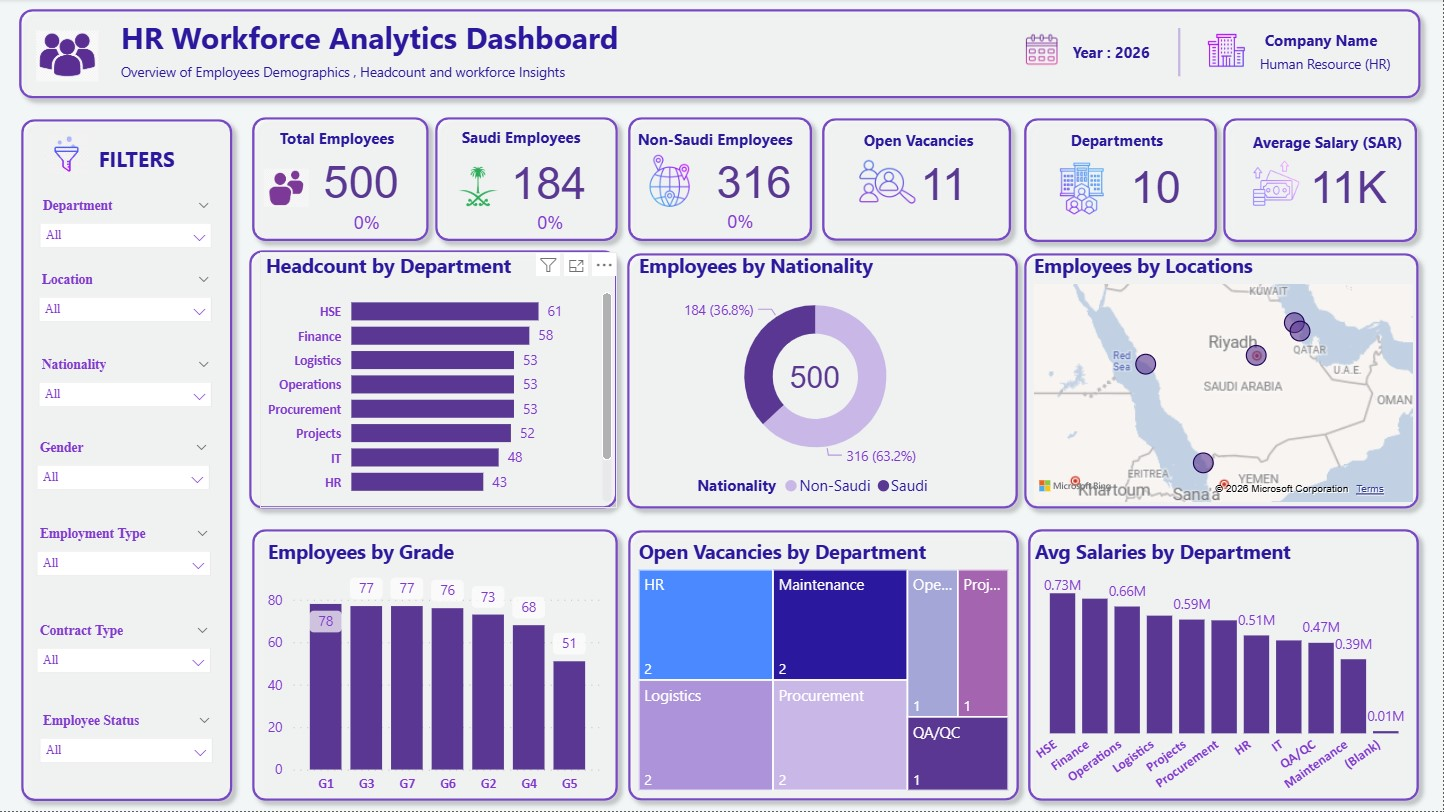

Layout of this report page (visuals, bound fields, positions):
{"tool":"powerbi","page":{"name":"Page 1","canvas":[1280,720],"ordinal":0},"visuals":[{"type":"shape","box":[8.5,0,1260.6,97.1],"z":0},{"type":"textbox","box":[103.1,10.7,645.8,46.7],"z":1000},{"type":"textbox","box":[103.1,51,458.6,34],"z":2000},{"type":"image","box":[0,22.7,120.9,55.5],"z":3000},{"type":"shape","box":[10.7,97.3,205.2,622.5],"z":4000},{"type":"image","box":[24.8,113.8,70.6,47.7],"z":5000},{"type":"textbox","box":[83.5,123.9,93.6,47.7],"z":6000},{"type":"slicer","fields":{"Values":["Employees.Department"]},"box":[25.7,171.6,173.4,65.1],"z":7000},{"type":"slicer","fields":{"Values":["Employees.Location"]},"box":[24.8,236.7,174.3,65.1],"z":8000},{"type":"slicer","fields":{"Values":["Employees.Nationality"]},"box":[24.8,311.9,174.3,65.1],"z":9000},{"type":"slicer","fields":{"Values":["Employees.Gender"]},"box":[23.3,386.1,174.1,65.2],"z":10000},{"type":"slicer","fields":{"Values":["Employees.Employment Type"]},"box":[23.3,462,175.1,65.2],"z":11000},{"type":"slicer","fields":{"Values":["Employees.Status"]},"box":[25.3,627.4,174.1,65.2],"z":12000},{"type":"slicer","fields":{"Values":["Employees.Contract Type"]},"box":[23.3,547.6,175.1,65.2],"z":13000},{"type":"shape","box":[215.6,95.6,174.4,127.8],"z":14000},{"type":"card","fields":{"Values":["CountNonNull(Employees.Emp ID)"]},"box":[258.3,137.9,126.2,46.6],"z":15000},{"type":"textbox","box":[243.8,110.3,120.2,33.9],"z":16000},{"type":"card","fields":{"Values":["Employees.Active Employee %"]},"box":[288.3,184.5,75.7,31.1],"z":17000},{"type":"image","box":[221.5,145.4,66.9,43.8],"z":18000},{"type":"shape","box":[377.8,95.6,180,127.8],"z":19000},{"type":"card","fields":{"Values":["CountNonNull(Employees.Nationality)"]},"box":[424.6,138.5,125.4,46.2],"z":20000},{"type":"textbox","box":[404.9,108.7,143.7,34],"z":21000},{"type":"card","fields":{"Values":["Employees.Saudi Employee %"]},"box":[450.5,184.5,76.7,31.1],"z":22000},{"type":"image","box":[384.5,141.7,80.6,47.6],"z":23000},{"type":"shape","box":[548.9,95.6,181.1,127.8],"z":24000},{"type":"card","fields":{"Values":["CountNonNull(Employees.Emp ID)"]},"box":[618.9,137.8,101.1,46.7],"z":25000},{"type":"textbox","box":[561.5,110.8,164.6,33.8],"z":26000},{"type":"card","fields":{"Values":["Employees.Non-Saudi Employee %"]},"box":[619.2,183.8,76.9,31.5],"z":27000},{"type":"image","box":[557.7,132.3,74.6,58.5],"z":28000},{"type":"shape","box":[721.1,96.7,185.6,126.7],"z":29000},{"type":"card","fields":{"Values":["Sum(Dashboard_Data.Open Vacancies)"]},"box":[774.6,139.2,125.4,46.2],"z":30000},{"type":"textbox","box":[761.5,111.5,151.5,33.8],"z":31000},{"type":"image","box":[753.8,132.3,68.5,60],"z":32000},{"type":"shape","box":[900,96.7,188.9,127.8],"z":33000},{"type":"shape","box":[1076.7,96.7,190,127.8],"z":34000},{"type":"textbox","box":[945.4,111.5,103.8,33.8],"z":35000},{"type":"card","fields":{"Values":["Count(Employees.Department)"]},"box":[963.1,141.5,125.4,46.2],"z":36000},{"type":"image","box":[923.1,140,74.6,56.2],"z":37000},{"type":"textbox","box":[1106.9,95.4,160,56.2],"z":38000},{"type":"image","box":[1106.9,131.5,52.3,64.6],"z":39000},{"type":"card","fields":{"Values":["Avg(Employees.Salary)"]},"box":[1150,142.3,93.1,46.2],"z":40000},{"type":"shape","box":[213,214,344.3,247.1],"z":41000},{"type":"barChart","title":"Headcount by Department","fields":{"Category":["Employees.Department"],"Y":["CountNonNull(Employees.Emp ID)"]},"box":[231.1,224.4,316.7,226.7],"z":42000},{"type":"shape","box":[547.8,216.7,364.4,244.4],"z":43000},{"type":"shape","box":[900,216.7,367.8,244.4],"z":44000},{"type":"donutChart","title":"Employees by Nationality","fields":{"Category":["Employees.Nationality"],"Y":["CountNonNull(Employees.Emp ID)"]},"box":[562.2,224.4,323.3,226.7],"z":45000},{"type":"card","fields":{"Values":["CountNonNull(Employees.Emp ID)"]},"box":[675,312.2,97.3,46.7],"z":46000},{"type":"map","title":"Employees by Locations","fields":{"X":["Employees.Longitude"],"Y":["Employees.Latitude"]},"box":[912.2,224.4,345.6,226.7],"z":47000},{"type":"shape","box":[215.6,461.1,342.2,258.9],"z":48000},{"type":"lineClusteredColumnComboChart","title":"Employees by Grade","fields":{"Category":["Employees.Grade"],"Y":["CountNonNull(Employees.Emp ID)"]},"box":[233.3,477.8,306.7,233.3],"z":49000},{"type":"shape","box":[548.9,462.2,364.4,257.8],"z":50000},{"type":"shape","box":[903.3,461.1,364.4,258.9],"z":51000},{"type":"treemap","title":"Open Vacancies by Department","fields":{"Group":["Dashboard_Data.Department"],"Values":["Sum(Dashboard_Data.Open Vacancies)"]},"box":[562.2,477.8,337.8,228.9],"z":52000},{"type":"columnChart","title":"Avg Salaries by Department","fields":{"Y":["Sum(Employees.Salary)"],"Category":["Employees.Department"]},"box":[913.3,477.8,344.4,242.2],"z":53000},{"type":"image","box":[1066,23.3,44.7,44.7],"z":54000},{"type":"textbox","box":[1117.6,23.3,125.5,34],"z":55000},{"type":"textbox","box":[1112.7,43.8,144.9,34],"z":56000},{"type":"shape","box":[1008.6,25.3,74.9,42.8],"z":57000},{"type":"image","box":[903.6,25.3,41.8,37.9],"z":58000},{"type":"textbox","box":[945.4,34,84.6,34],"z":58001}]}

Visuals, with their boxes in screenshot pixels (x1, y1, x2, y2), scaled from the page's 1280x720 canvas onto the 1444x812 screenshot:
shape: 10 0 1432 110
textbox: 116 12 845 65
textbox: 116 58 634 96
image: 0 26 136 88
shape: 12 110 244 811
image: 28 128 108 182
textbox: 94 140 200 194
slicer - Employees.Department: 29 194 225 267
slicer - Employees.Location: 28 267 225 340
slicer - Employees.Nationality: 28 352 225 425
slicer - Employees.Gender: 26 435 223 509
slicer - Employees.Employment Type: 26 521 224 595
slicer - Employees.Status: 29 708 225 781
slicer - Employees.Contract Type: 26 618 224 691
shape: 243 108 440 252
card - CountNonNull(Employees.Emp ID): 291 156 434 208
textbox: 275 124 411 163
card - Employees.Active Employee %: 325 208 411 243
image: 250 164 325 213
shape: 426 108 629 252
card - CountNonNull(Employees.Nationality): 479 156 620 208
textbox: 457 123 619 161
card - Employees.Saudi Employee %: 508 208 595 243
image: 434 160 525 213
shape: 619 108 824 252
card - CountNonNull(Employees.Emp ID): 698 155 812 208
textbox: 633 125 819 163
card - Employees.Non-Saudi Employee %: 699 207 785 243
image: 629 149 713 215
shape: 813 109 1023 252
card - Sum(Dashboard_Data.Open Vacancies): 874 157 1015 209
textbox: 859 126 1030 164
image: 850 149 928 217
shape: 1015 109 1228 253
shape: 1215 109 1429 253
textbox: 1067 126 1184 164
card - Count(Employees.Department): 1086 160 1228 212
image: 1041 158 1126 221
textbox: 1249 108 1429 171
image: 1249 148 1308 221
card - Avg(Employees.Salary): 1297 160 1402 213
shape: 240 241 629 520
"Headcount by Department" barChart: 261 253 618 509
shape: 618 244 1029 520
shape: 1015 244 1430 520
"Employees by Nationality" donutChart: 634 253 999 509
card - CountNonNull(Employees.Emp ID): 761 352 871 405
"Employees by Locations" map: 1029 253 1419 509
shape: 243 520 629 811
"Employees by Grade" lineClusteredColumnComboChart: 263 539 609 802
shape: 619 521 1030 811
shape: 1019 520 1430 811
"Open Vacancies by Department" treemap: 634 539 1015 797
"Avg Salaries by Department" columnChart: 1030 539 1419 811
image: 1203 26 1253 77
textbox: 1261 26 1402 65
textbox: 1255 49 1419 88
shape: 1138 29 1222 77
image: 1019 29 1067 71
textbox: 1067 38 1162 77
